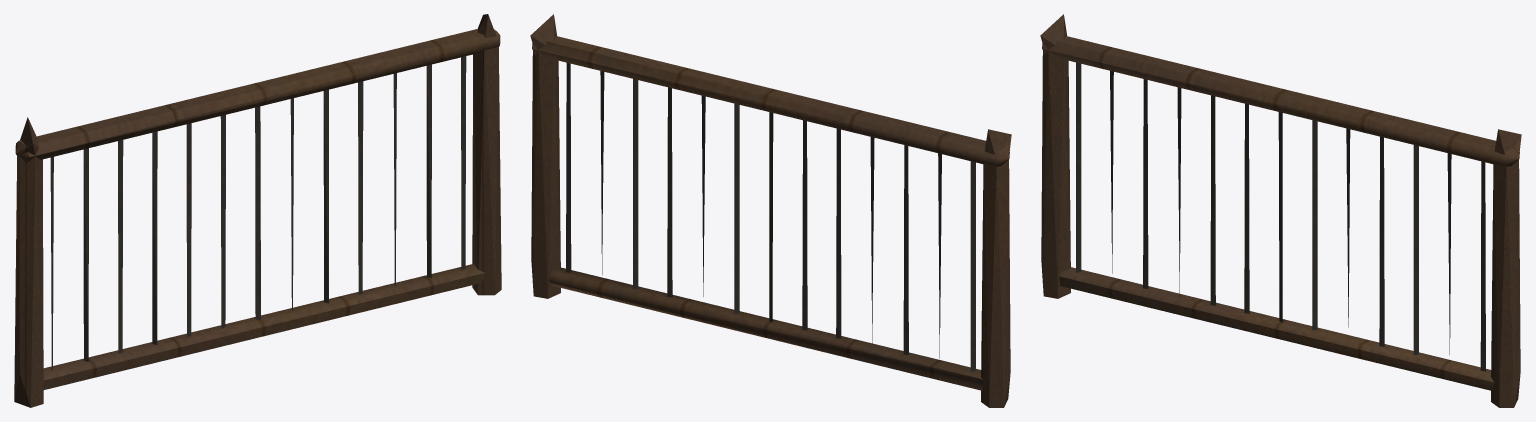
The model's file is balcony_railing_lod2.glb.
The picture shows the model from 3 angles, left to right: view 1: azimuth 30°, elevation 25°; view 2: azimuth 150°, elevation 25°; view 3: azimuth 330°, elevation 25°; orthographic projection.
Parts seen in each view (by area): view 1: balcony_railing; view 2: balcony_railing; view 3: balcony_railing.
Part boxes in pixels (bbox=[...]): balcony_railing: bbox=[14, 14, 501, 407]; balcony_railing: bbox=[530, 14, 1011, 407]; balcony_railing: bbox=[1040, 14, 1521, 407].
Bounding box in the file's own units: 2.12 × 1.17 × 0.1468.
1 material, 1 textured.
